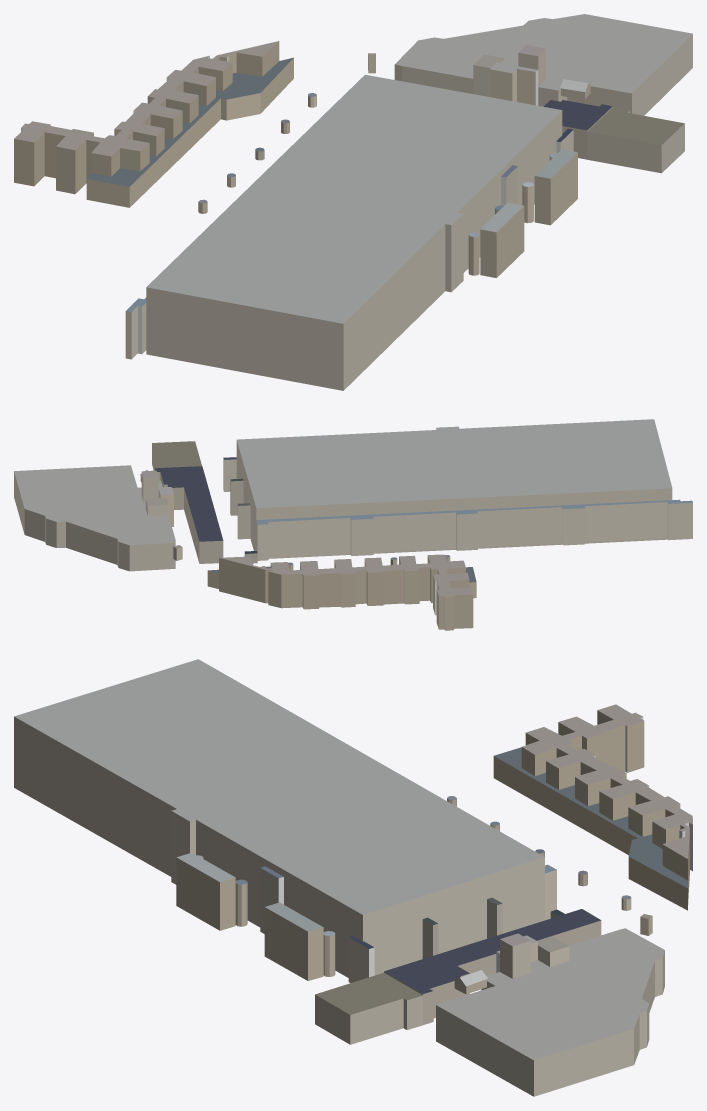
The picture shows the model from 3 angles, top to bottom: view 1: azimuth 30°, elevation 25°; view 2: azimuth 150°, elevation 25°; view 3: azimuth 270°, elevation 25°; orthographic projection. The views are drawn at different scales.
Visible parts, largest first — view 1: tuile; view 2: tuile; view 3: tuile.
Boxes of the visible parts, left/top/right/bottom form: tuile: left=14, top=14, right=692, bottom=390; tuile: left=14, top=419, right=692, bottom=630; tuile: left=14, top=659, right=692, bottom=1096.
Size of the model in its own units: 399 by 35.72 by 303.
